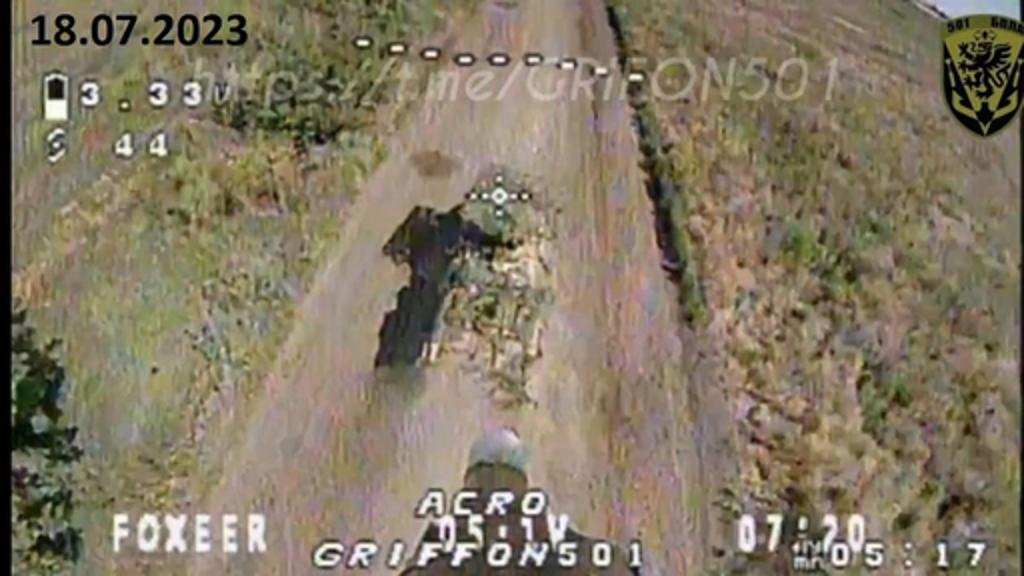APC-IFV: (396, 146, 578, 410)
